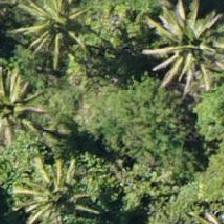coconut_tree: (135, 2, 223, 92), (15, 0, 105, 74), (20, 151, 110, 223), (0, 67, 54, 157)
